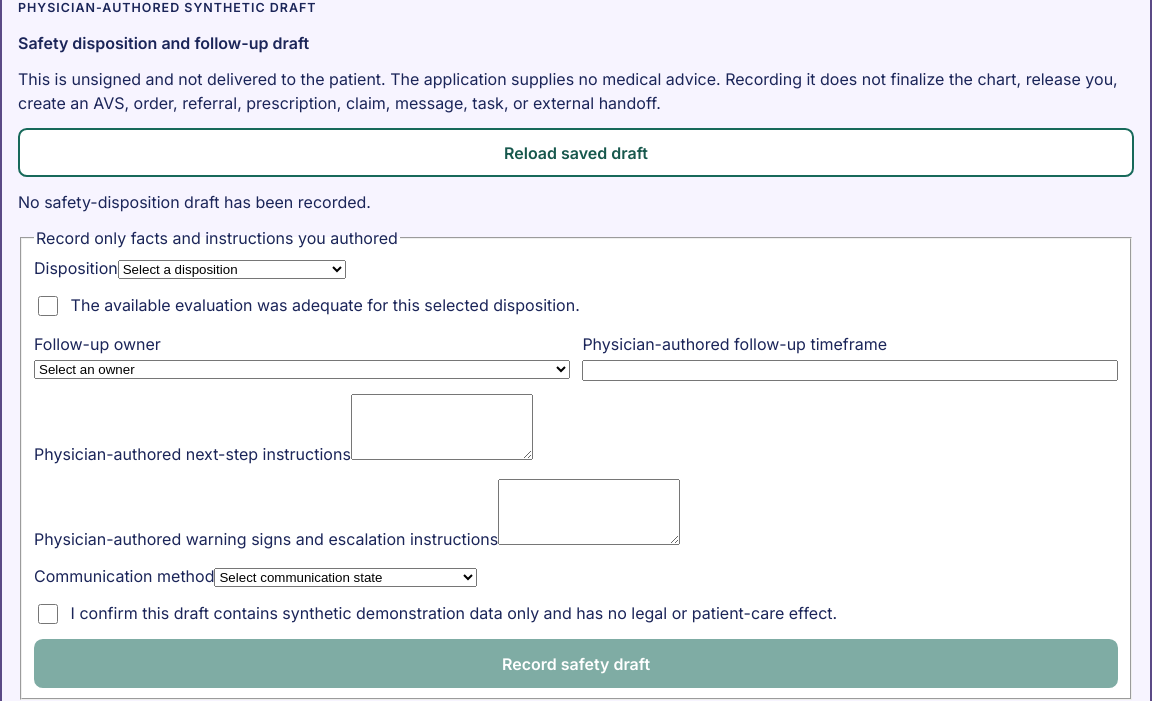
Test: TelehealthSafetyDispositionPanel › reveals and requires explicit emergency facts without claiming external verification
The image size is (1152, 701).
Expected: the text "No safety-disposition draft has been recorded." is shown, [18, 192, 371, 212]
Step 1. Select "Emergency transfer recommended" in the dropdown labelled "Disposition" → (232,270), box [118, 260, 346, 279]
(page scrolled)
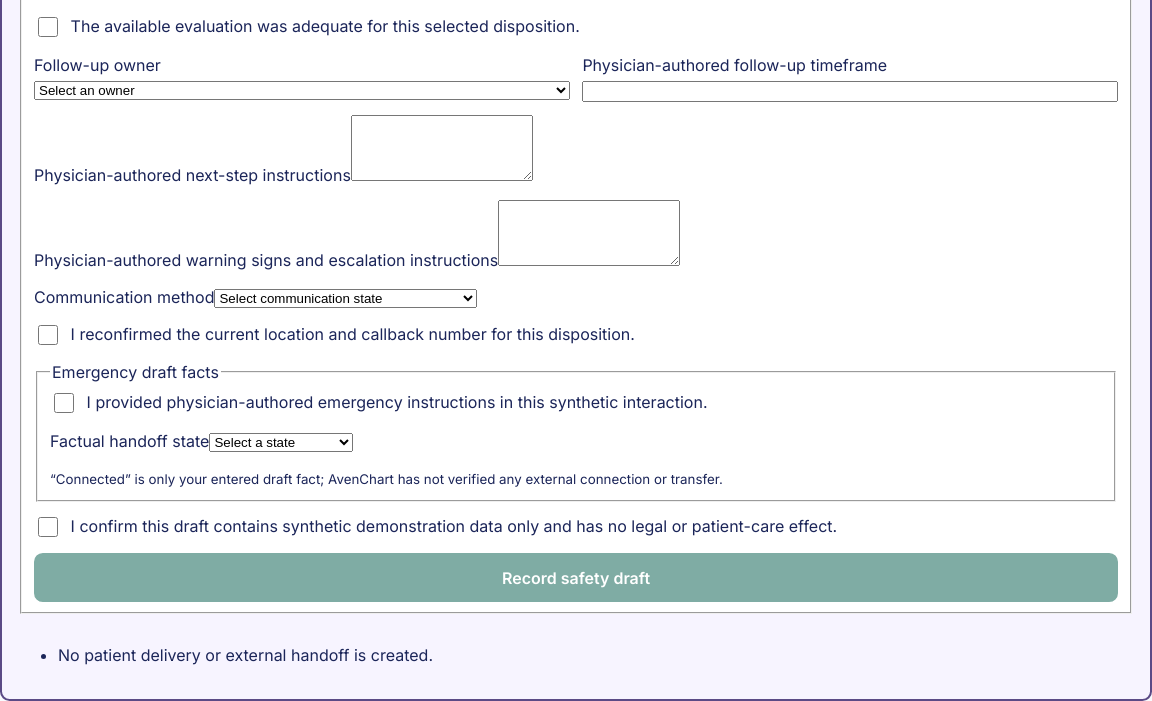
Expected: the button "Record safety draft" is disabled, [34, 553, 1118, 602]
Now the element "Emergency draft facts" is shown, box [36, 360, 1116, 502]
Now the text "has not verified any external connection or transfer" is shown, box [50, 471, 723, 487]
